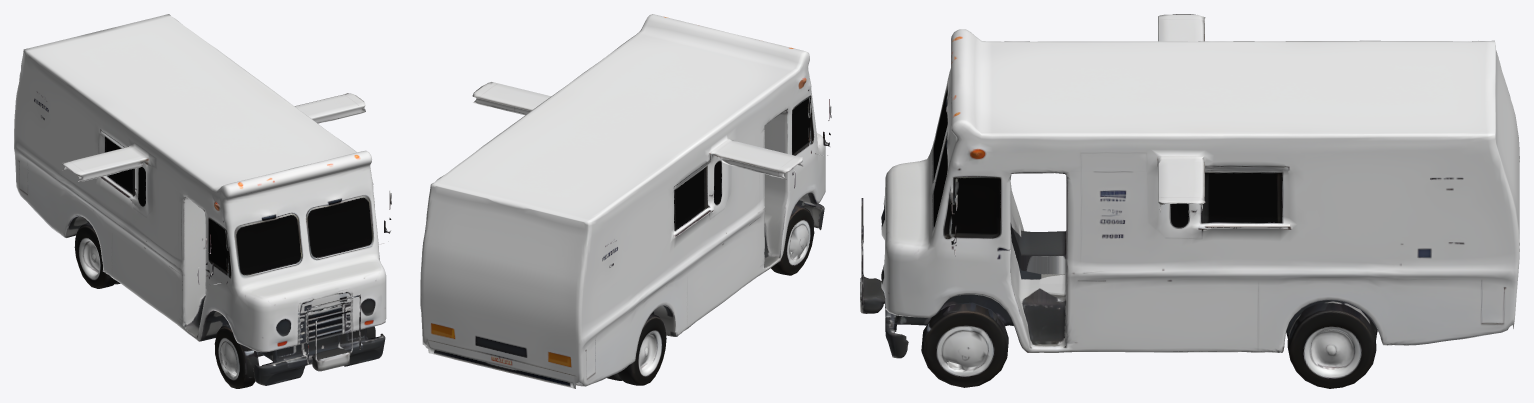
File: base-pbr.glb
3 renders of one model, left to right at view 1: azimuth 30°, elevation 25°; view 2: azimuth 150°, elevation 25°; view 3: azimuth 270°, elevation 25°, orthographic. The views are drawn at different scales.
Parts seen in each view (by area): view 1: model; view 2: model; view 3: model.
Boxes of the visible parts, x1,y1,x2,y2 form: model: (14,14,391,388); model: (420,14,831,388); model: (860,14,1519,388).
Bounding box in the file's own units: 1.29 × 0.8626 × 1.9.
Materials: 1 (1 with a texture image).
